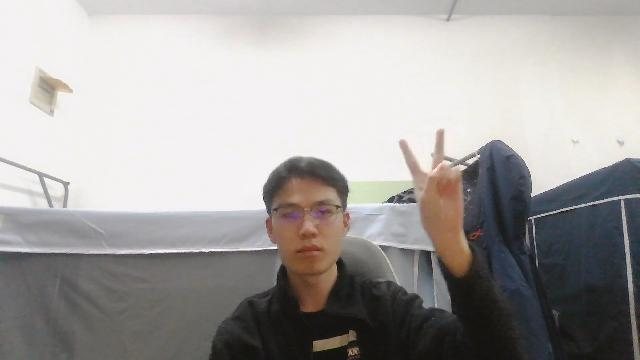yes: (394, 123, 474, 251)
